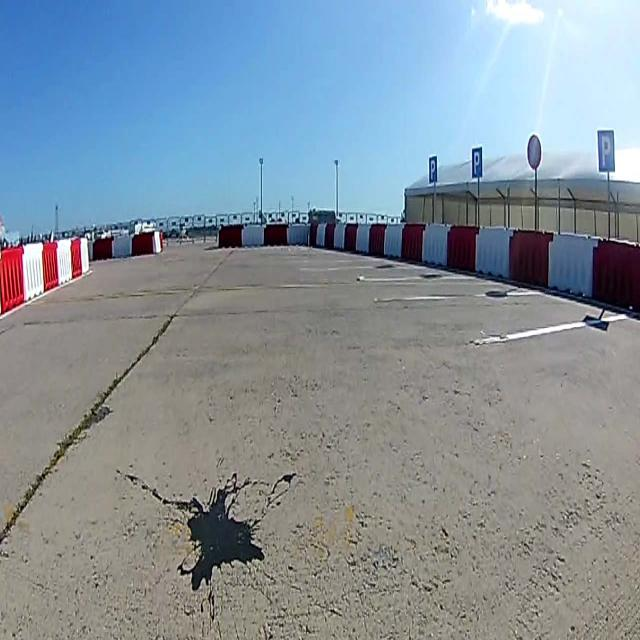park: (597, 128, 615, 172), (471, 146, 483, 178), (429, 156, 437, 184)
parkyasak: (527, 134, 542, 169)
